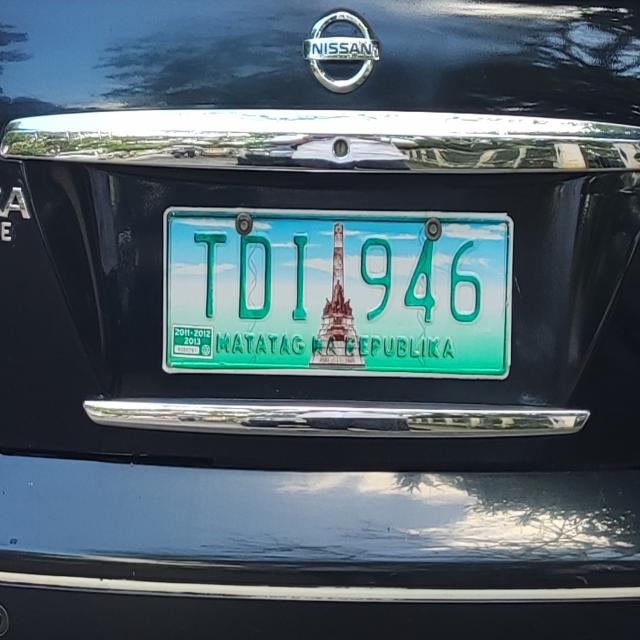plate: (156, 200, 518, 384)
